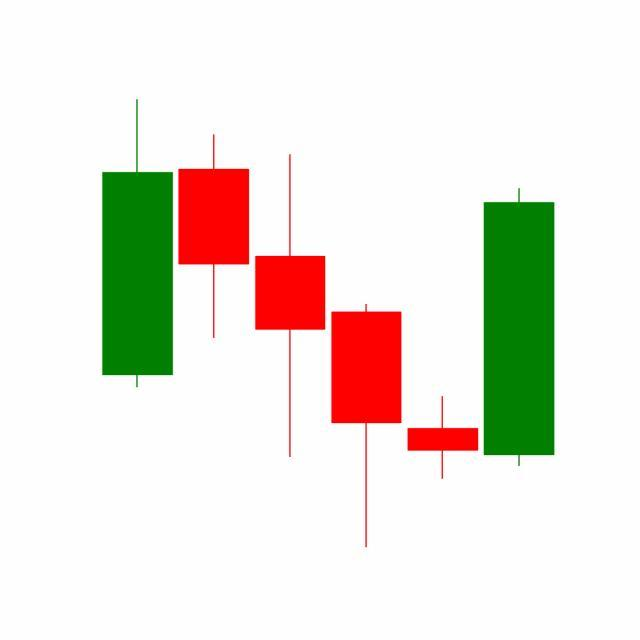Hikkake Pattern: (175, 130, 555, 549)
